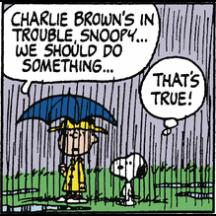charlie: (54, 115, 102, 203)
snoopy: (108, 151, 148, 207)
